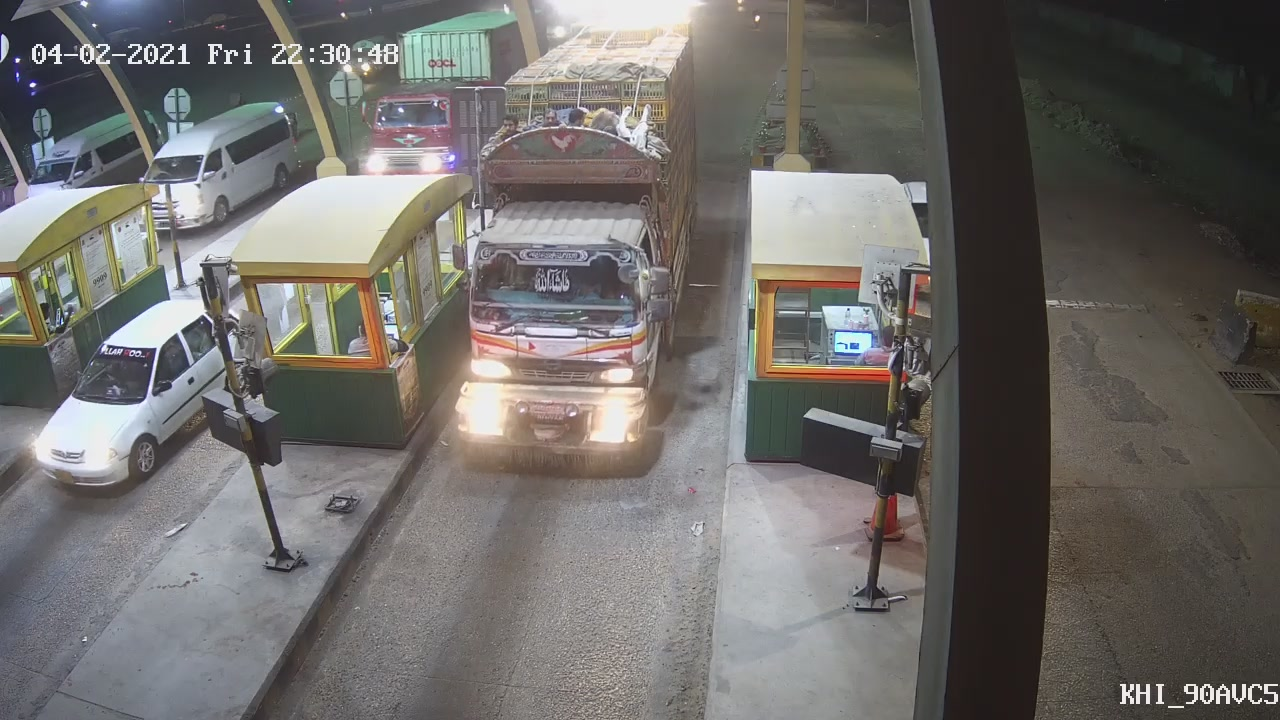F5: (445, 26, 714, 475)
